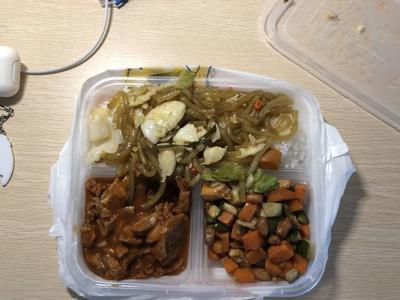bcnf: (99, 89, 285, 163)
gbjd: (206, 179, 298, 279)
